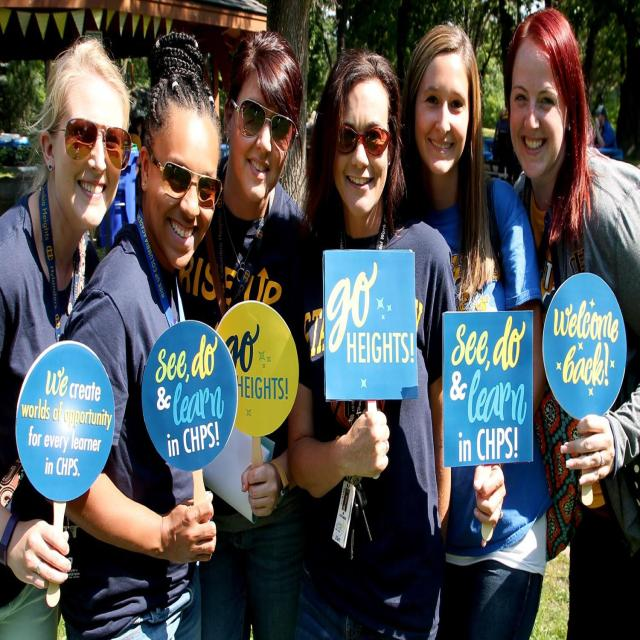body: (276, 51, 466, 640), (48, 34, 226, 640), (381, 22, 548, 640), (493, 4, 640, 640), (173, 29, 313, 640), (0, 34, 133, 640)
